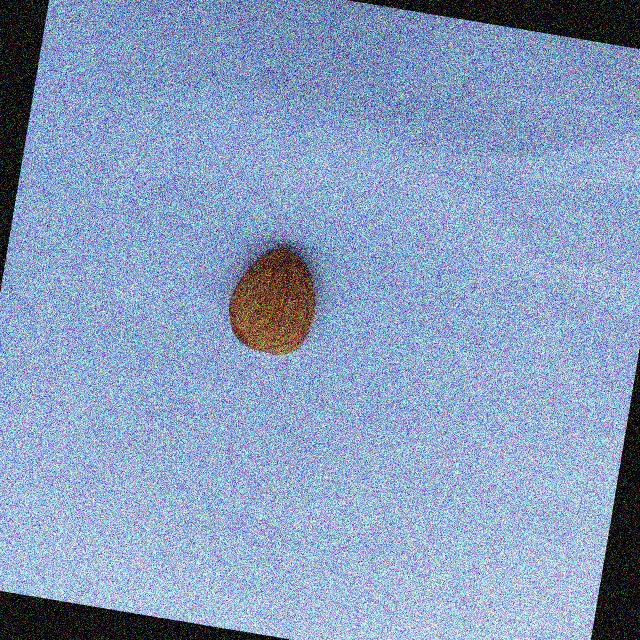grade1: (215, 232, 335, 368)
